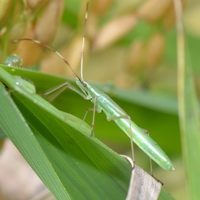insect: (43, 77, 173, 169)
